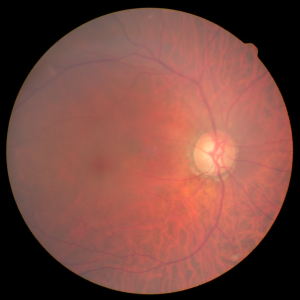glaucoma: (89, 101, 271, 219)
